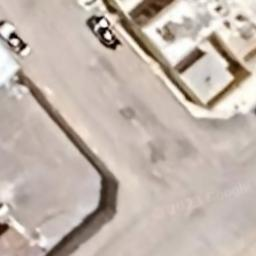pickup: (0, 20, 32, 58)
unknown: (85, 14, 122, 53)
